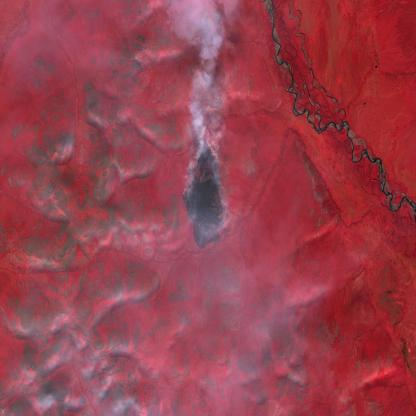fire: (176, 137, 228, 255)
